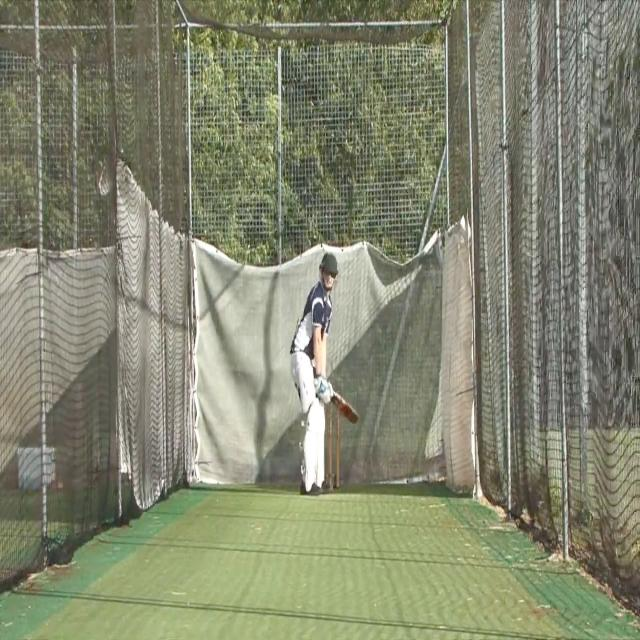batsman: (289, 250, 360, 498)
